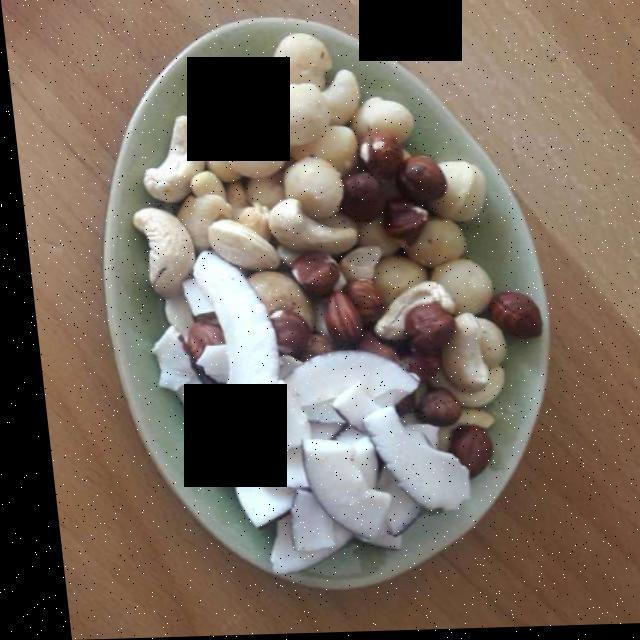coconut: (141, 239, 446, 562)
mixed-nuts: (101, 45, 527, 484)
